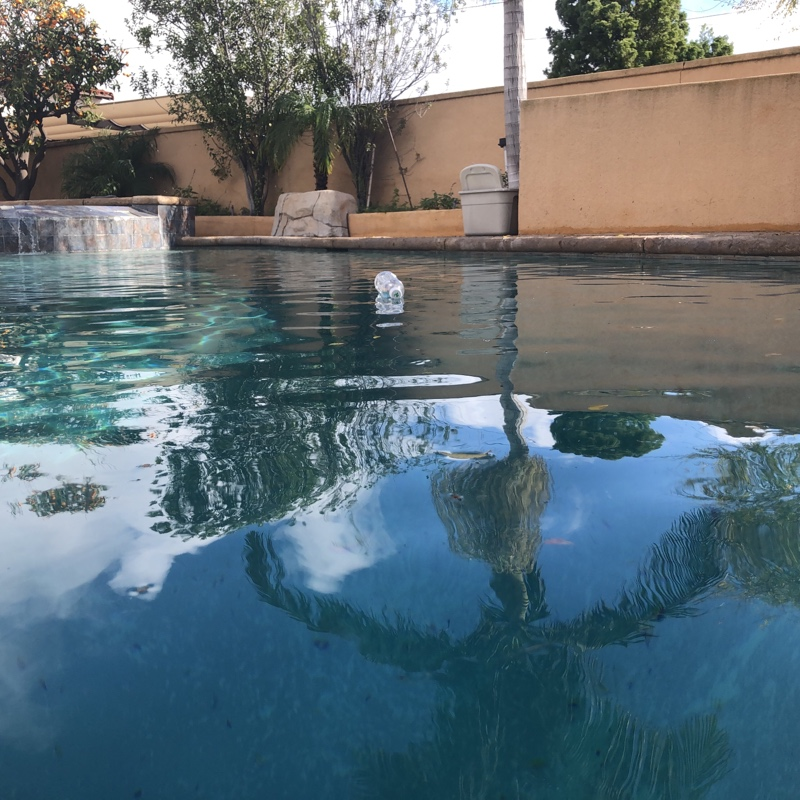Plastic Bottle: (373, 269, 404, 300)
